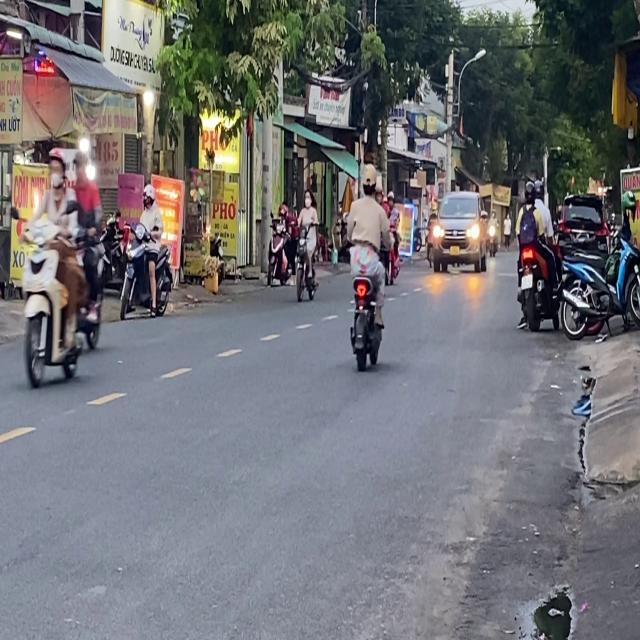helmet: (46, 148, 66, 190), (360, 163, 377, 195), (523, 179, 535, 204), (142, 183, 154, 208), (534, 178, 544, 200)
licenseplate: (18, 145, 99, 390), (345, 161, 390, 369), (118, 182, 174, 320), (514, 176, 562, 332), (292, 187, 320, 301)
motorcyclist: (72, 151, 88, 180), (304, 188, 312, 206)
nohelmet: (521, 274, 532, 288)
